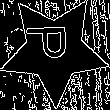P_E: (29, 30, 80, 69)
